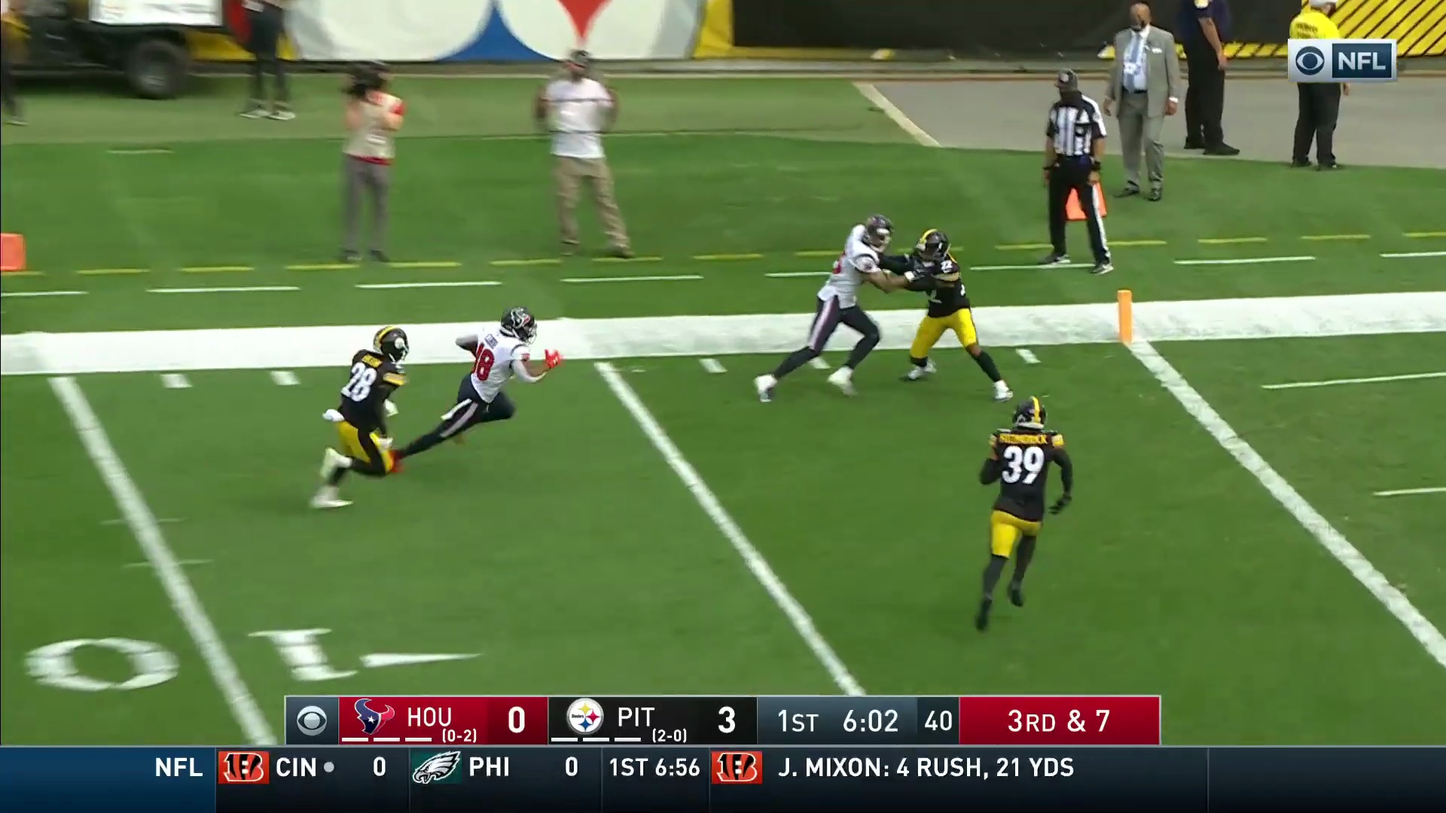Player: (976, 395, 1072, 624)
